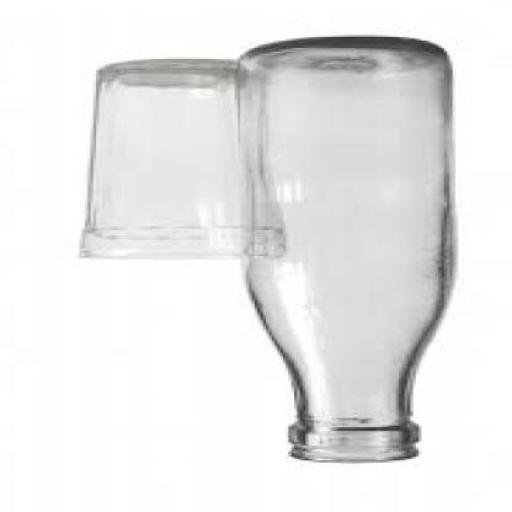glass: (237, 37, 458, 466), (82, 68, 291, 262)
